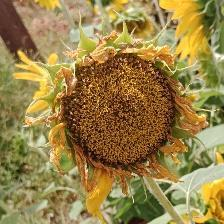sunflower: (28, 9, 224, 206)
